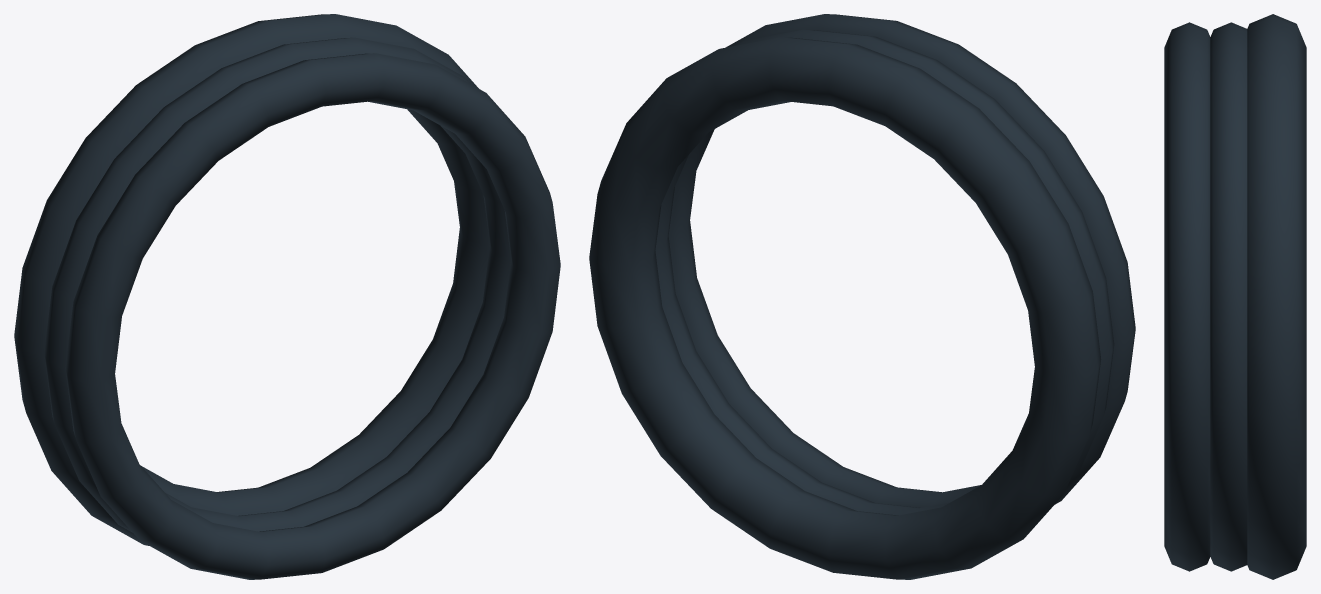
3 renders of one model, left to right at view 1: azimuth 30°, elevation 25°; view 2: azimuth 150°, elevation 25°; view 3: azimuth 270°, elevation 25°, orthographic. The views are drawn at different scales.
Parts seen in each view (by area): view 1: 电缆线; view 2: 电缆线; view 3: 电缆线.
Part boxes in pixels (x1,y1,x2,y2): 电缆线: [14, 14, 560, 579]; 电缆线: [589, 14, 1135, 579]; 电缆线: [1164, 14, 1306, 579].
Size of the model in its own units: 0.68 by 0.68 by 0.17.
